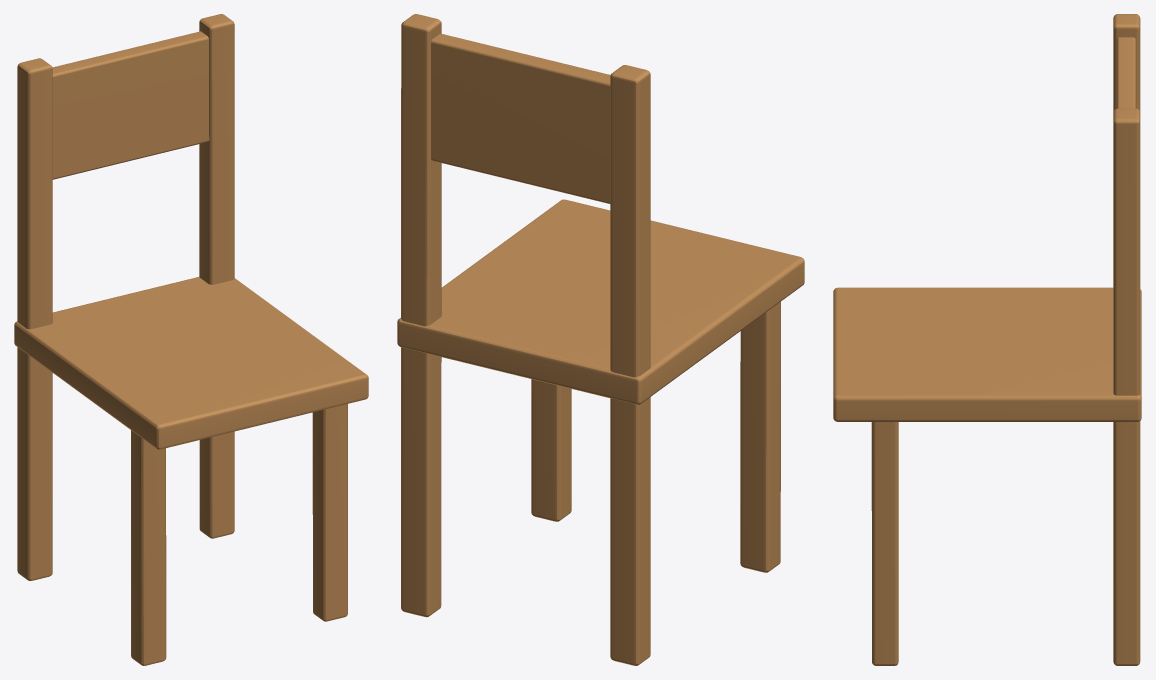
Rendered from chair3.fbx.
3 renders of one model, left to right at view 1: azimuth 30°, elevation 25°; view 2: azimuth 150°, elevation 25°; view 3: azimuth 270°, elevation 25°, orthographic. The views are drawn at different scales.
Parts seen in each view (by area): view 1: pasted__pasted__pCube5, pasted__pCube5, pasted__pCube4, pasted__pasted__pCube4, pasted__pasted__pCube6, pasted__pasted__pasted__pCube4; view 2: pasted__pasted__pCube5, pasted__pCube5, pasted__pCube4, pasted__pasted__pCube4, pasted__pasted__pCube6, pasted__pasted__pasted__pCube4; view 3: pasted__pasted__pCube5, pasted__pasted__pCube4, pasted__pasted__pasted__pCube4, pasted__pCube5, pasted__pCube4.
Part boxes in pixels (<box>): pasted__pasted__pCube5: <box>14,277,368,449</box>; pasted__pCube5: <box>52,31,209,179</box>; pasted__pCube4: <box>17,58,52,580</box>; pasted__pasted__pCube4: <box>199,14,234,538</box>; pasted__pasted__pCube6: <box>131,430,166,665</box>; pasted__pasted__pasted__pCube4: <box>312,404,347,621</box>; pasted__pasted__pCube5: <box>397,199,804,404</box>; pasted__pCube5: <box>431,33,610,203</box>; pasted__pCube4: <box>610,65,650,665</box>; pasted__pasted__pCube4: <box>401,14,441,617</box>; pasted__pasted__pCube6: <box>740,302,780,572</box>; pasted__pasted__pasted__pCube4: <box>531,379,571,521</box>; pasted__pasted__pCube5: <box>833,287,1141,421</box>; pasted__pasted__pCube4: <box>1113,108,1140,665</box>; pasted__pasted__pasted__pCube4: <box>871,422,898,665</box>; pasted__pCube5: <box>1116,37,1135,108</box>; pasted__pCube4: <box>1113,14,1140,111</box>.
Size of the model in its own units: 0.8347 by 1.92 by 0.984.
